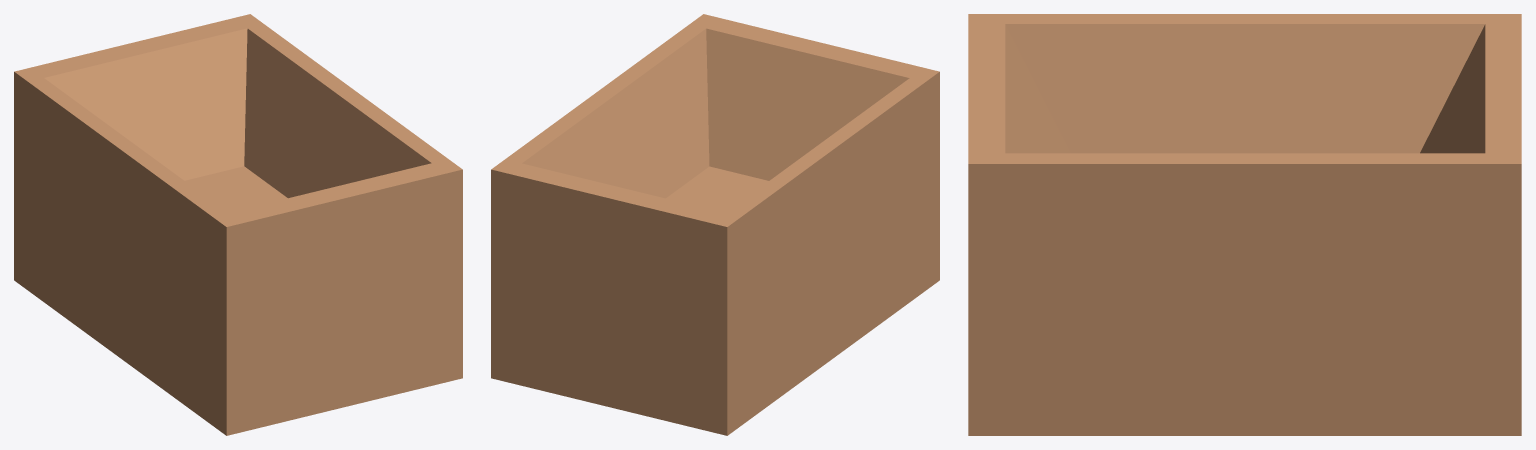
The model's file is animacionprueba.glb.
3 views of the same model, side by side, from view 1: azimuth 30°, elevation 25°; view 2: azimuth 150°, elevation 25°; view 3: azimuth 270°, elevation 25° (orthographic). The views are drawn at different scales.
Parts seen in each view (by area): view 1: Cube.1125; view 2: Cube.1125; view 3: Cube.1125.
Boxes of the visible parts, x1,y1,x2,y2 form: Cube.1125: (14,14,462,435); Cube.1125: (491,14,939,435); Cube.1125: (968,14,1521,435).
Size of the model in its own units: 1.37 by 1.15 by 2.13.
